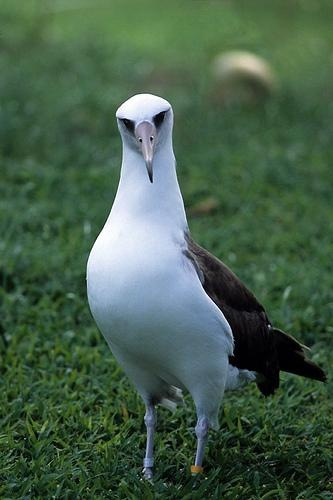bird: (82, 87, 325, 481)
